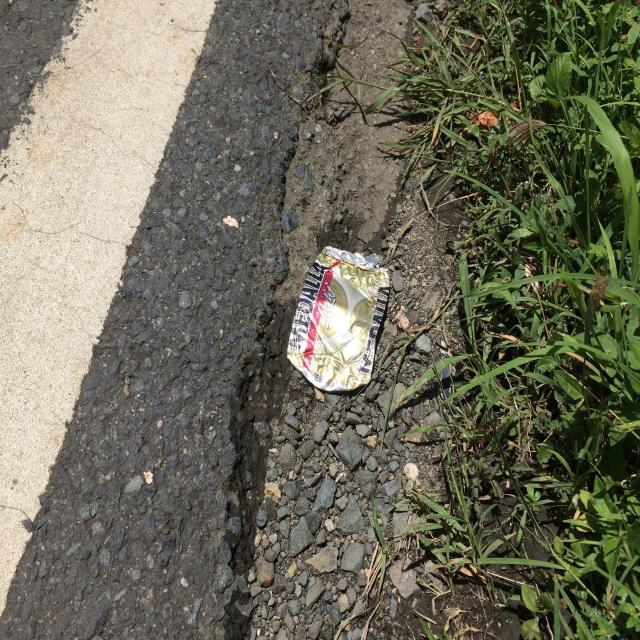litter: (269, 228, 398, 403)
